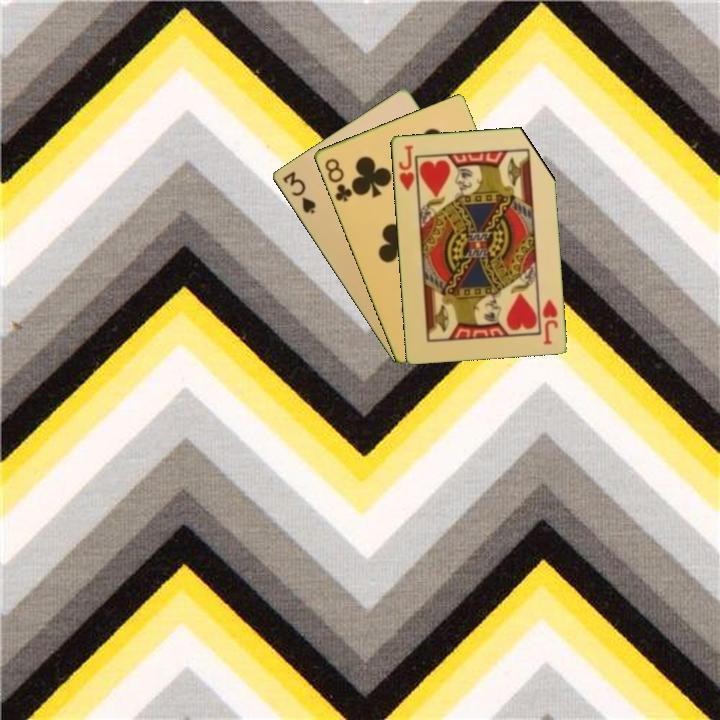3s: (278, 167, 318, 216)
8c: (321, 155, 355, 205)
Jh: (395, 141, 420, 197), (538, 295, 560, 347)
